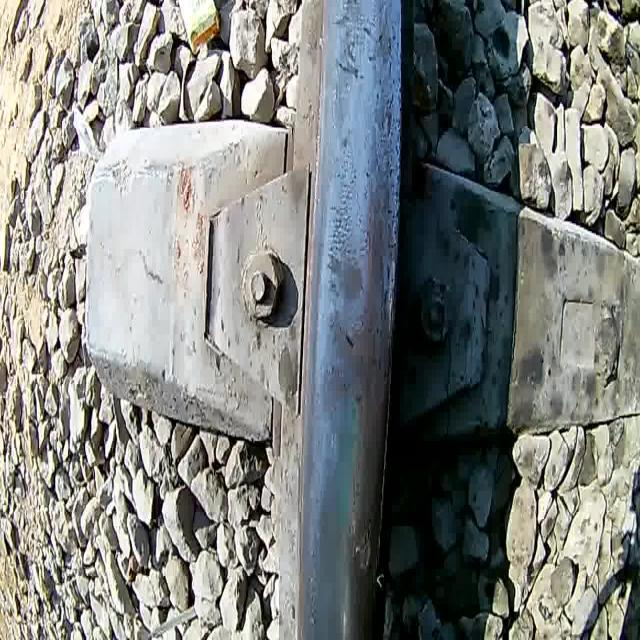Spallings: (352, 513, 376, 573)
Squats: (320, 247, 385, 419)
